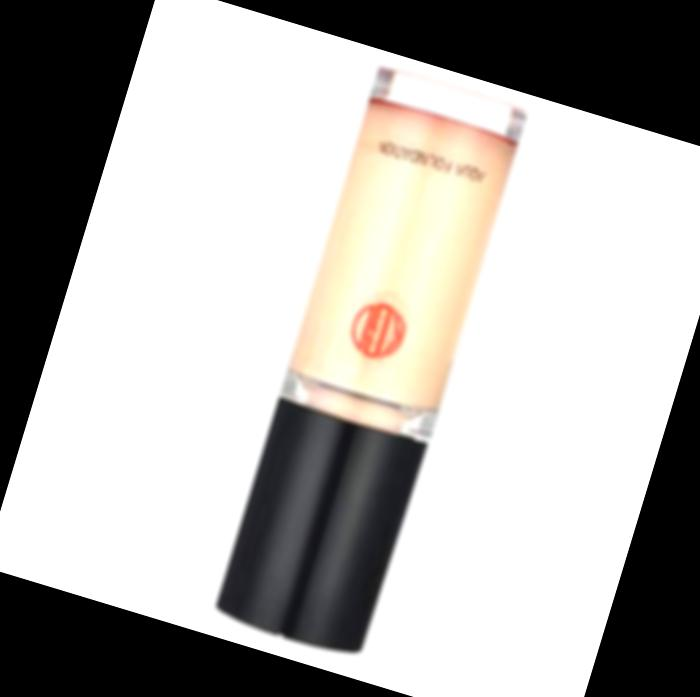cosmetic: (207, 59, 532, 661)
